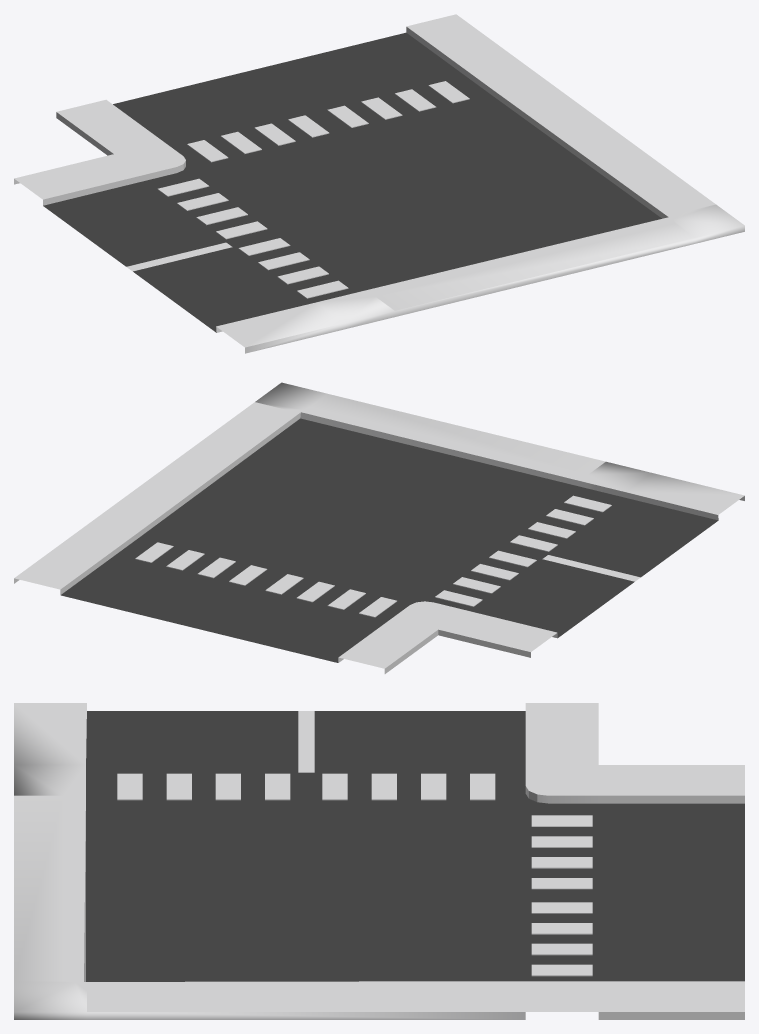
Rendered from two-lane-L-junction-right.fbx.
3 renders of one model, top to bottom at view 1: azimuth 30°, elevation 25°; view 2: azimuth 150°, elevation 25°; view 3: azimuth 270°, elevation 25°, orthographic. The views are drawn at different scales.
Visible parts, largest first — view 1: two-lane-L-junction-right; view 2: two-lane-L-junction-right; view 3: two-lane-L-junction-right.
Boxes of the visible parts, <box> form: two-lane-L-junction-right: <box>14,14,744,353</box>; two-lane-L-junction-right: <box>14,382,744,673</box>; two-lane-L-junction-right: <box>14,703,744,1019</box>.
Size of the model in its own units: 14.02 by 0.165 by 14.02.
